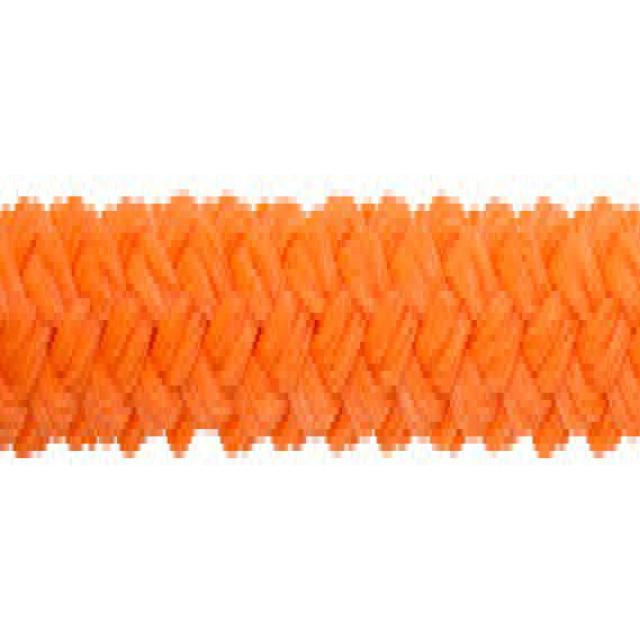rope: (0, 194, 640, 453)
